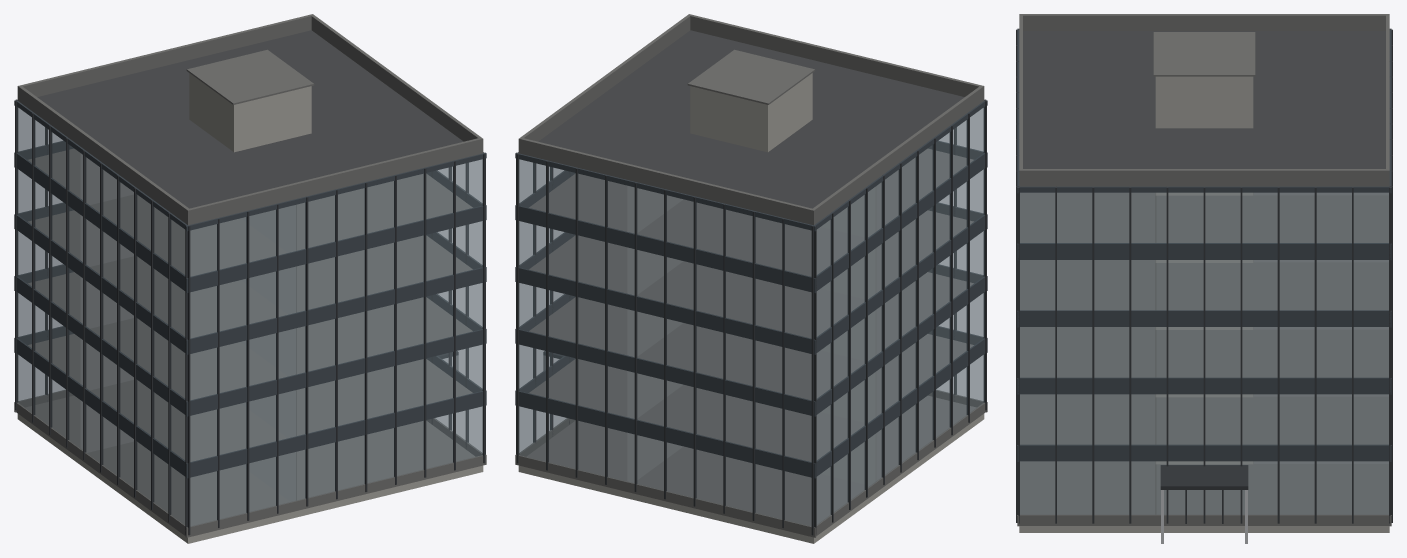
The model's file is tower.glb.
3 renders of one model, left to right at view 1: azimuth 30°, elevation 25°; view 2: azimuth 150°, elevation 25°; view 3: azimuth 270°, elevation 25°, orthographic. The views are drawn at different scales.
Parts seen in each view (by area): view 1: Facade_North_LOD0, Facade_East_LOD0, Roof_LOD0, Slab_F1_LOD0, Slab_F2_LOD0, Slab_F3_LOD0, Slab_F4_LOD0, Slab_F5_LOD0, Core_LOD0, Zone_F1-East_LOD0, Zone_F1-North_LOD0, Zone_F3-East_LOD0 (+14 smaller); view 2: Facade_South_LOD0, Facade_East_LOD0, Roof_LOD0, Slab_F1_LOD0, Slab_F4_LOD0, Slab_F3_LOD0, Slab_F5_LOD0, Slab_F2_LOD0, Zone_F1-South_LOD0, Core_LOD0, Zone_F3-South_LOD0, Zone_F2-South_LOD0 (+14 smaller); view 3: Facade_West_LOD0, Roof_LOD0, Slab_F1_LOD0, Slab_F3_LOD0, Slab_F2_LOD0, Slab_F4_LOD0, Slab_F5_LOD0, Core_LOD0, Zone_F3-West_LOD0, Zone_F4-West_LOD0, Zone_F5-West_LOD0, Zone_F2-West_LOD0 (+9 smaller).
Part boxes in pixels (x1=…): Facade_North_LOD0: x1=185, y1=152, x2=486, y2=537; Facade_East_LOD0: x1=15, y1=100, x2=187, y2=535; Roof_LOD0: x1=17, y1=14, x2=483, y2=225; Slab_F1_LOD0: x1=17, y1=396, x2=483, y2=543; Slab_F2_LOD0: x1=28, y1=334, x2=472, y2=461; Slab_F3_LOD0: x1=28, y1=272, x2=472, y2=399; Slab_F4_LOD0: x1=28, y1=210, x2=472, y2=338; Slab_F5_LOD0: x1=28, y1=148, x2=472, y2=276; Core_LOD0: x1=186, y1=49, x2=314, y2=152; Zone_F1-East_LOD0: x1=82, y1=402, x2=295, y2=525; Zone_F1-North_LOD0: x1=296, y1=407, x2=481, y2=499; Zone_F3-East_LOD0: x1=82, y1=279, x2=295, y2=399; Facade_South_LOD0: x1=515, y1=152, x2=816, y2=537; Facade_East_LOD0: x1=814, y1=100, x2=986, y2=535; Roof_LOD0: x1=518, y1=14, x2=984, y2=225; Slab_F1_LOD0: x1=518, y1=396, x2=984, y2=543; Slab_F4_LOD0: x1=529, y1=210, x2=973, y2=338; Slab_F3_LOD0: x1=529, y1=272, x2=973, y2=399; Slab_F5_LOD0: x1=529, y1=148, x2=973, y2=276; Slab_F2_LOD0: x1=529, y1=334, x2=973, y2=461; Zone_F1-South_LOD0: x1=629, y1=434, x2=874, y2=525; Core_LOD0: x1=687, y1=49, x2=815, y2=152; Zone_F3-South_LOD0: x1=629, y1=310, x2=874, y2=399; Zone_F2-South_LOD0: x1=629, y1=372, x2=874, y2=460; Facade_West_LOD0: x1=1018, y1=186, x2=1390, y2=525; Roof_LOD0: x1=1019, y1=14, x2=1389, y2=186; Slab_F1_LOD0: x1=1019, y1=461, x2=1389, y2=532; Slab_F3_LOD0: x1=1020, y1=327, x2=1388, y2=377; Slab_F2_LOD0: x1=1020, y1=394, x2=1388, y2=444; Slab_F4_LOD0: x1=1020, y1=260, x2=1388, y2=310; Slab_F5_LOD0: x1=1020, y1=192, x2=1388, y2=242; Core_LOD0: x1=1153, y1=32, x2=1255, y2=464; Zone_F3-West_LOD0: x1=1157, y1=327, x2=1388, y2=376; Zone_F4-West_LOD0: x1=1157, y1=260, x2=1388, y2=309; Zone_F5-West_LOD0: x1=1157, y1=193, x2=1388, y2=242; Zone_F2-West_LOD0: x1=1157, y1=395, x2=1388, y2=443.
Bounding box in the file's own units: 21.77 × 22.7 × 19.32.
